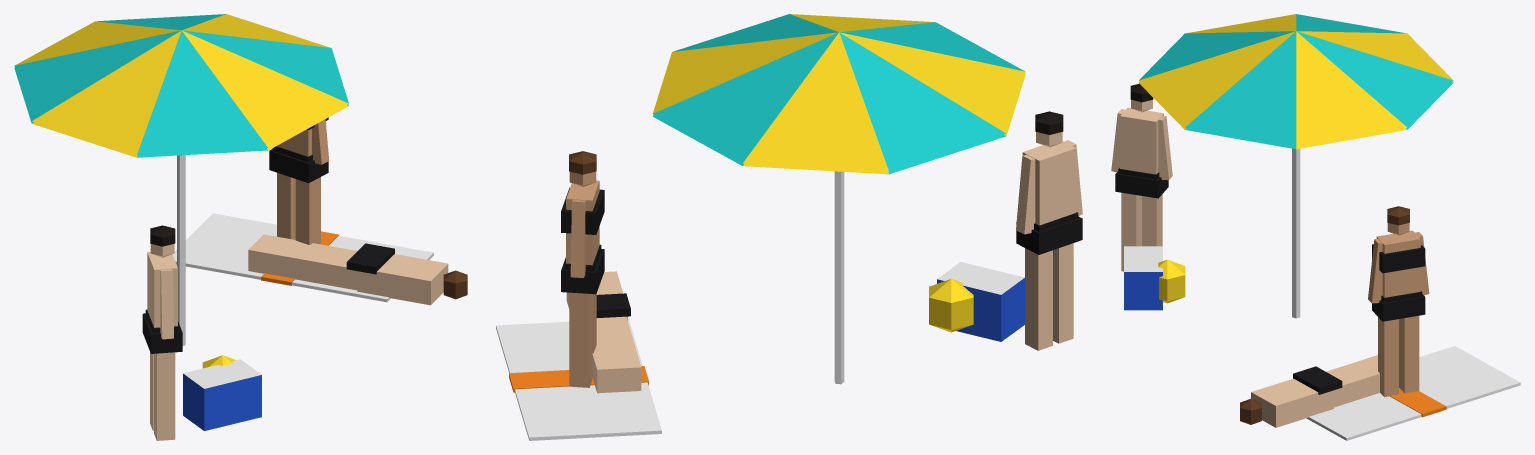
File: nudista_grupo_8.obj
3 views of the same model, side by side, from view 1: azimuth 30°, elevation 25°; view 2: azimuth 150°, elevation 25°; view 3: azimuth 270°, elevation 25° (orthographic). The views are drawn at different scales.
Parts seen in each view (by area): view 1: nudista_grupo_8; view 2: nudista_grupo_8; view 3: nudista_grupo_8.
Boxes of the visible parts, bbox=[...] form: nudista_grupo_8: bbox=[14, 14, 467, 440]; nudista_grupo_8: bbox=[496, 14, 1082, 440]; nudista_grupo_8: bbox=[1111, 14, 1520, 440].
Size of the model in its own units: 3.73 by 2.6 by 3.38.
